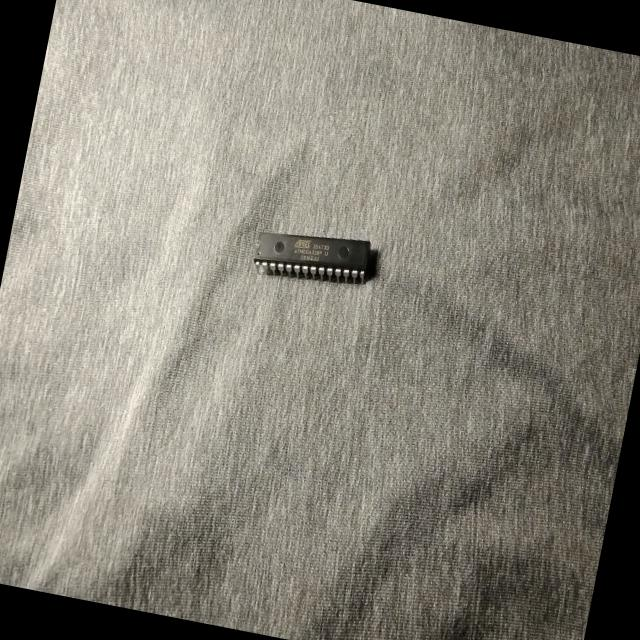atmega: (248, 217, 376, 298)
